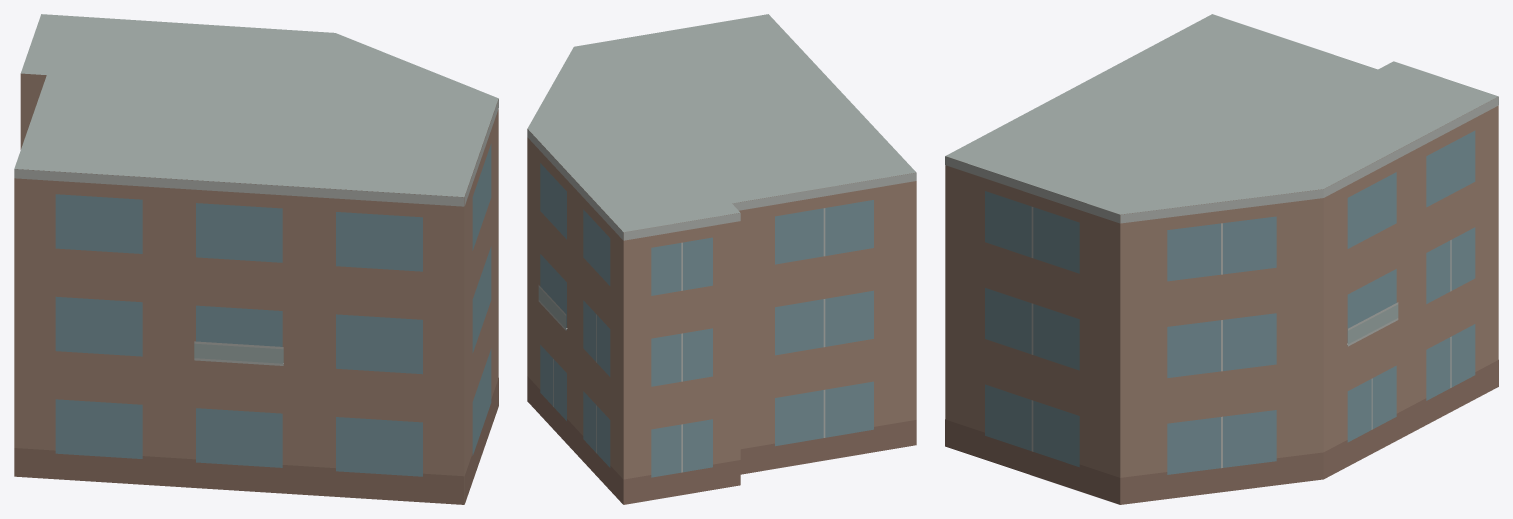
Rendered from survey-upis-32488928.glb.
3 renders of one model, left to right at view 1: azimuth 30°, elevation 25°; view 2: azimuth 150°, elevation 25°; view 3: azimuth 270°, elevation 25°, orthographic. The views are drawn at different scales.
Visible parts, largest first — view 1: survey-upis-32488928.tmp; view 2: survey-upis-32488928.tmp; view 3: survey-upis-32488928.tmp.
Part boxes in pixels (x1,y1,x2,y2): survey-upis-32488928.tmp: (14, 14, 498, 504); survey-upis-32488928.tmp: (527, 14, 916, 504); survey-upis-32488928.tmp: (945, 14, 1498, 504).
Bounding box in the file's own units: 11.72 × 7.9 × 13.67.
